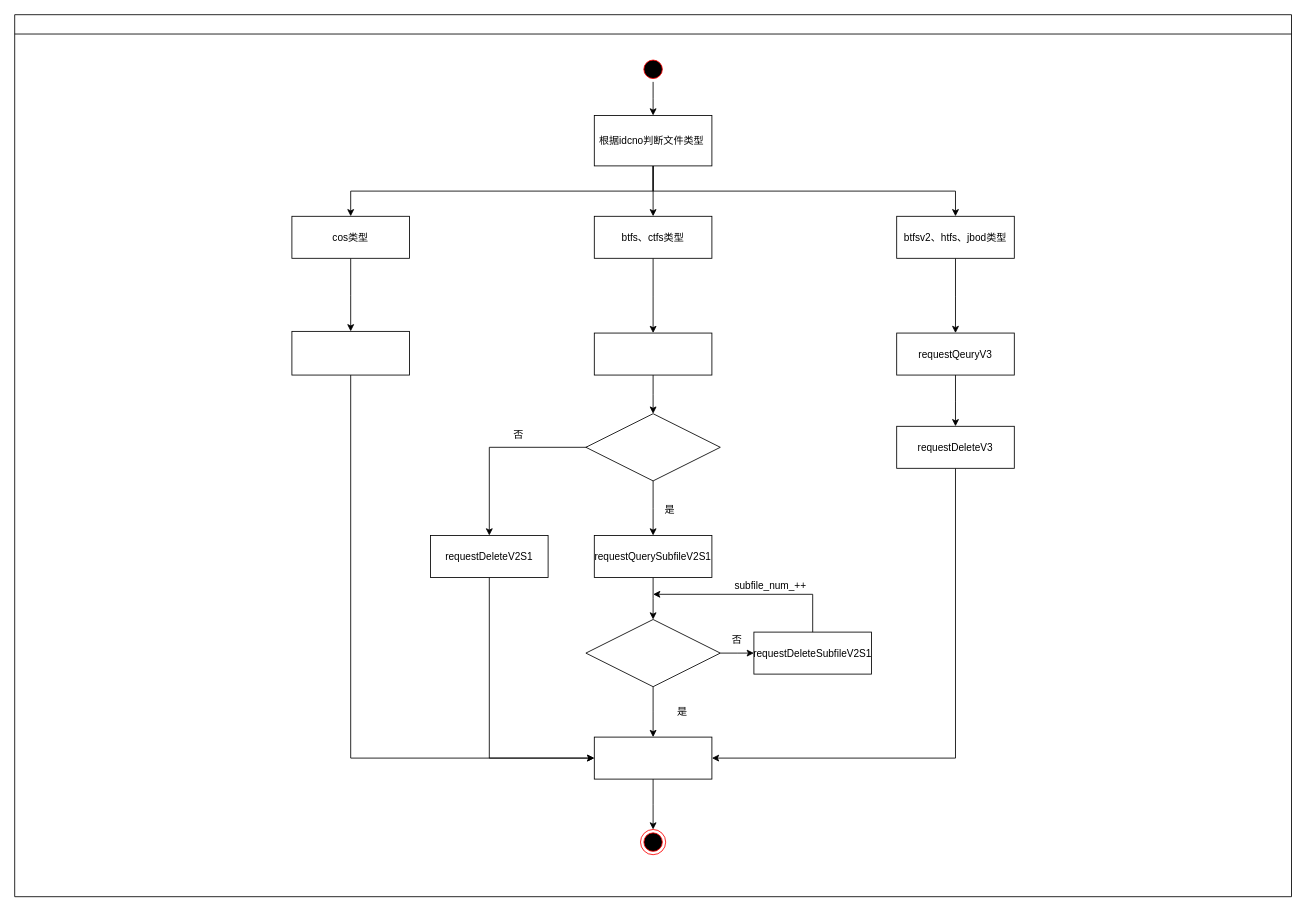
Image size: 1306x911. Some labels were removed from this diagram. Each missing label, with the centre of its shape:
requestDelete: the point at 350,353
requestqueryV2S1: the point at 652,353
rspClient: the point at 652,757
subfile_num_>blod.siz?: the point at 652,653
是否存在大文件?: the point at 652,447
